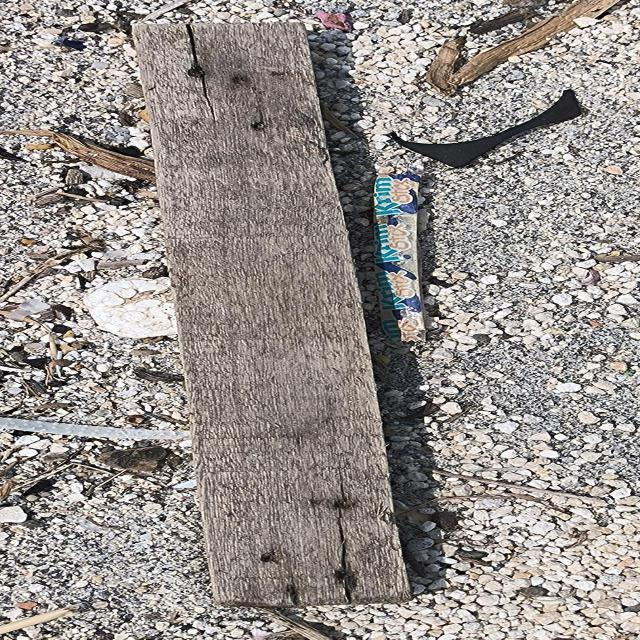plastic_waste: (376, 177, 429, 346)
wood_waste: (135, 25, 417, 621)
